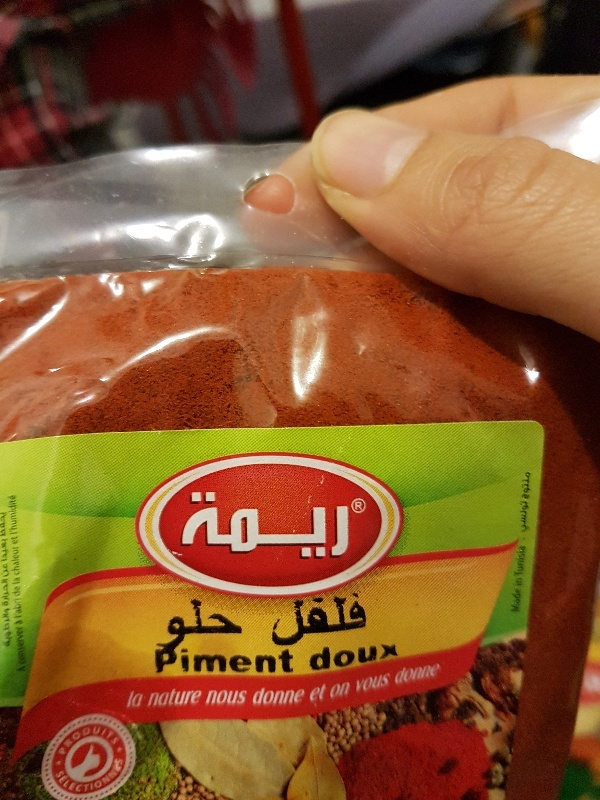text: (1, 492, 16, 674), (17, 491, 29, 676), (6, 491, 16, 676), (337, 486, 353, 558), (193, 486, 208, 558), (209, 486, 224, 558), (225, 486, 240, 558), (241, 486, 256, 558), (257, 486, 272, 558), (273, 486, 288, 558), (289, 486, 304, 558), (305, 486, 320, 558), (321, 486, 336, 558), (177, 594, 192, 652), (193, 594, 208, 652), (209, 594, 224, 652), (225, 594, 240, 652), (289, 592, 304, 650), (305, 592, 320, 650), (321, 592, 336, 650), (337, 592, 352, 650), (353, 592, 368, 650), (180, 486, 192, 558), (274, 592, 288, 650), (163, 594, 176, 652), (65, 756, 80, 796), (81, 756, 96, 796), (97, 756, 112, 796), (241, 594, 251, 652), (113, 756, 126, 796), (321, 642, 336, 673), (337, 642, 352, 673), (353, 642, 368, 673), (369, 642, 384, 673), (385, 642, 400, 673), (65, 726, 80, 756), (81, 726, 96, 756), (97, 726, 112, 756), (53, 756, 64, 796), (161, 646, 176, 675), (177, 646, 192, 675), (193, 646, 208, 675), (209, 646, 224, 675), (225, 646, 240, 675), (241, 646, 256, 675), (257, 646, 272, 675), (273, 646, 288, 675), (514, 587, 528, 617), (517, 545, 528, 577), (401, 662, 416, 685), (417, 662, 432, 685), (369, 672, 384, 694), (519, 500, 528, 535), (257, 686, 272, 706), (273, 686, 288, 706), (289, 686, 304, 706), (355, 672, 368, 694), (337, 681, 352, 700), (311, 642, 320, 673), (161, 689, 176, 707), (177, 689, 192, 707), (130, 689, 144, 708), (209, 689, 224, 706), (225, 689, 240, 706), (113, 726, 121, 756), (193, 689, 204, 707), (433, 662, 441, 685), (58, 726, 64, 756), (154, 646, 160, 675), (289, 646, 295, 675), (522, 471, 528, 500), (151, 689, 160, 707), (312, 683, 320, 703), (385, 672, 392, 694), (241, 689, 250, 706), (514, 578, 528, 588), (321, 683, 328, 703), (369, 592, 371, 650), (529, 471, 533, 500), (529, 500, 532, 535), (331, 681, 336, 700), (396, 662, 400, 685), (253, 686, 256, 706), (305, 686, 307, 706), (401, 642, 402, 673)
